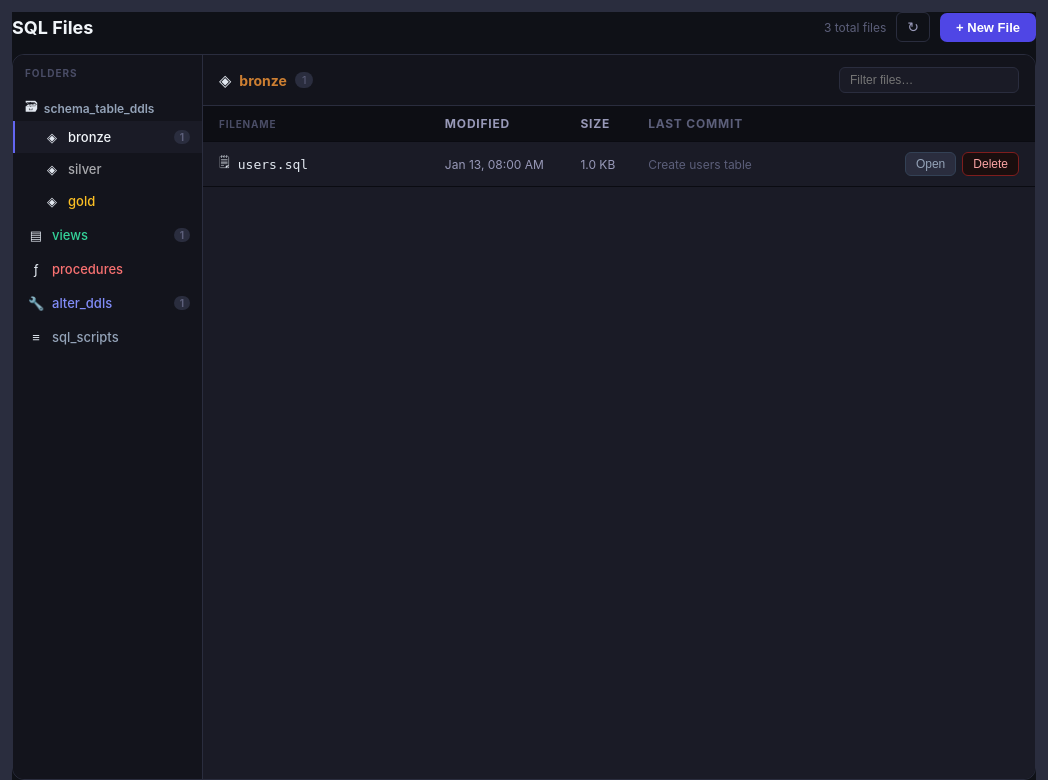
Test: FileBrowser component › file list after folder selection › shows file name after clicking views folder
The image size is (1048, 780).
Click the text "views": [70, 235] box [52,227,88,243]
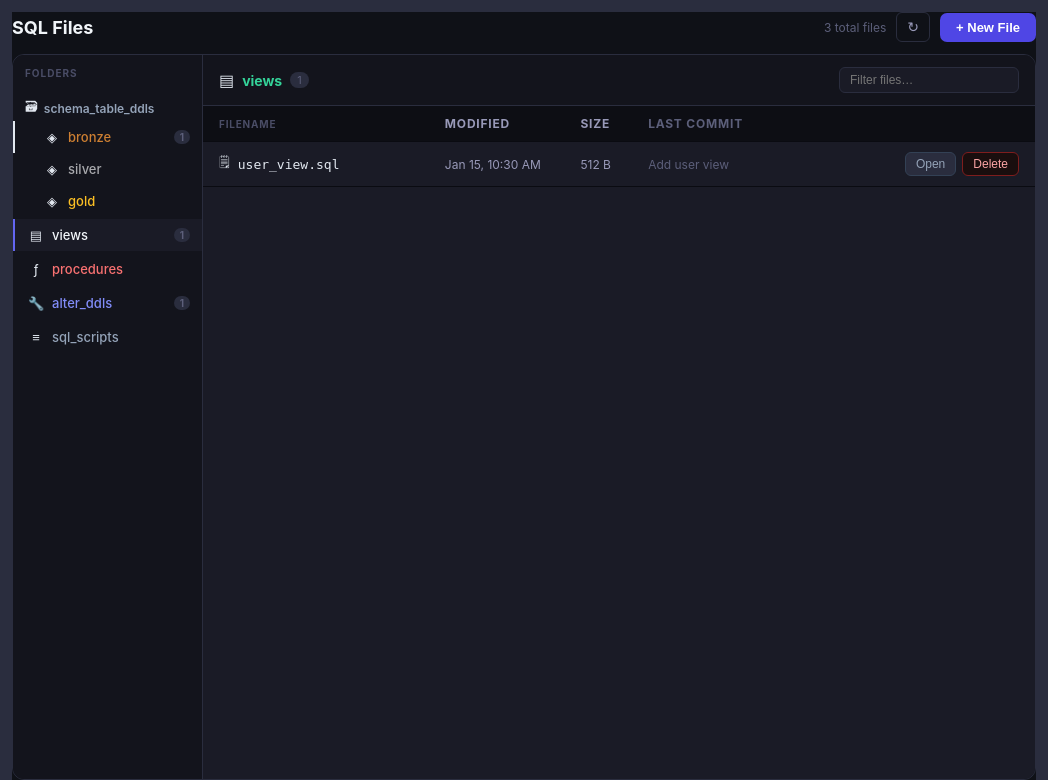
Result: the text "user_view.sql" is shown at [238,156,340,172]
